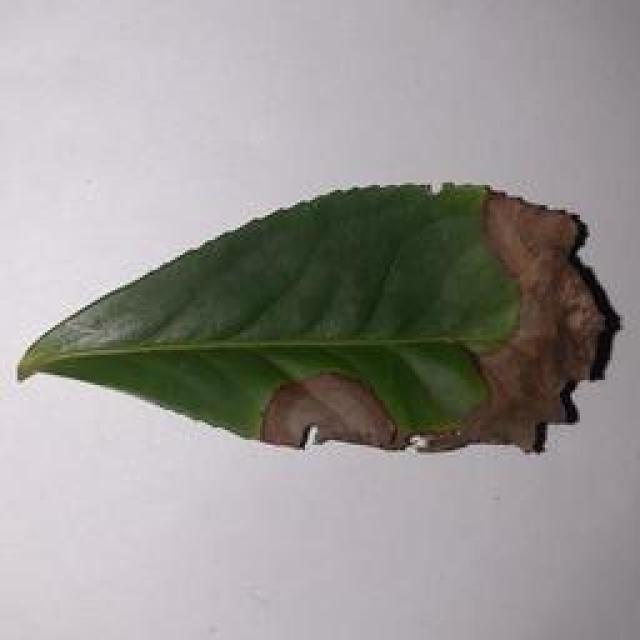Brown Blight: (0, 182, 622, 452)
